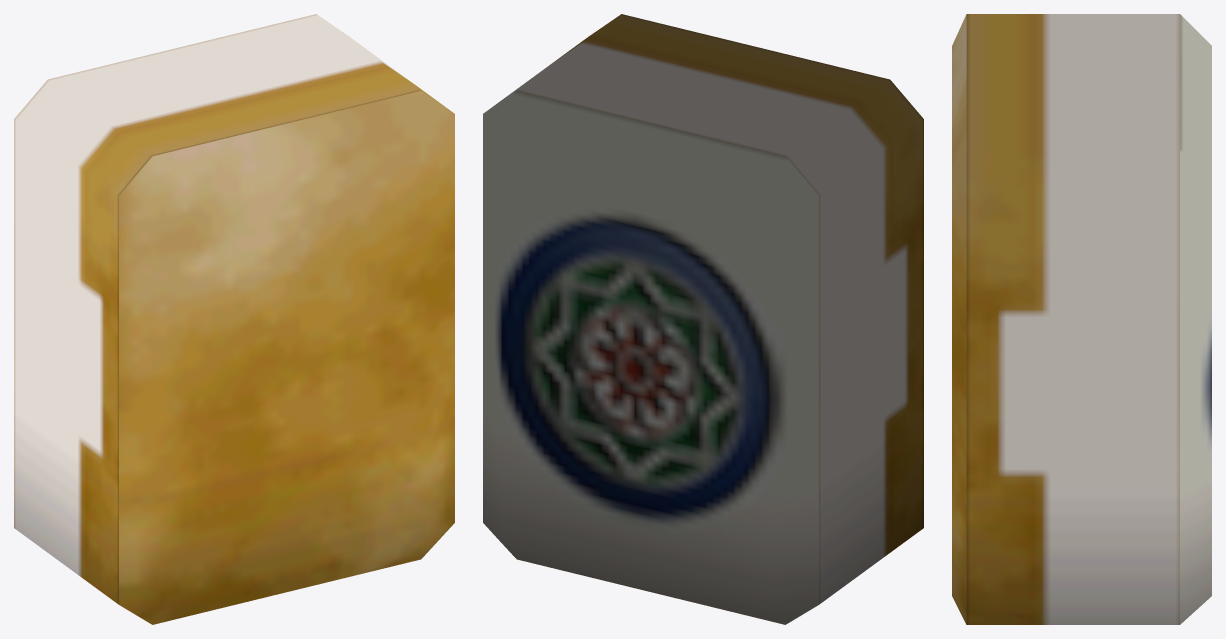
Rendered from view.ico.obj.
The picture shows the model from 3 angles, left to right: view 1: azimuth 30°, elevation 25°; view 2: azimuth 150°, elevation 25°; view 3: azimuth 270°, elevation 25°; orthographic projection.
Size of the model in its own units: 2.25 by 3 by 1.48.
1 material, 1 textured.
